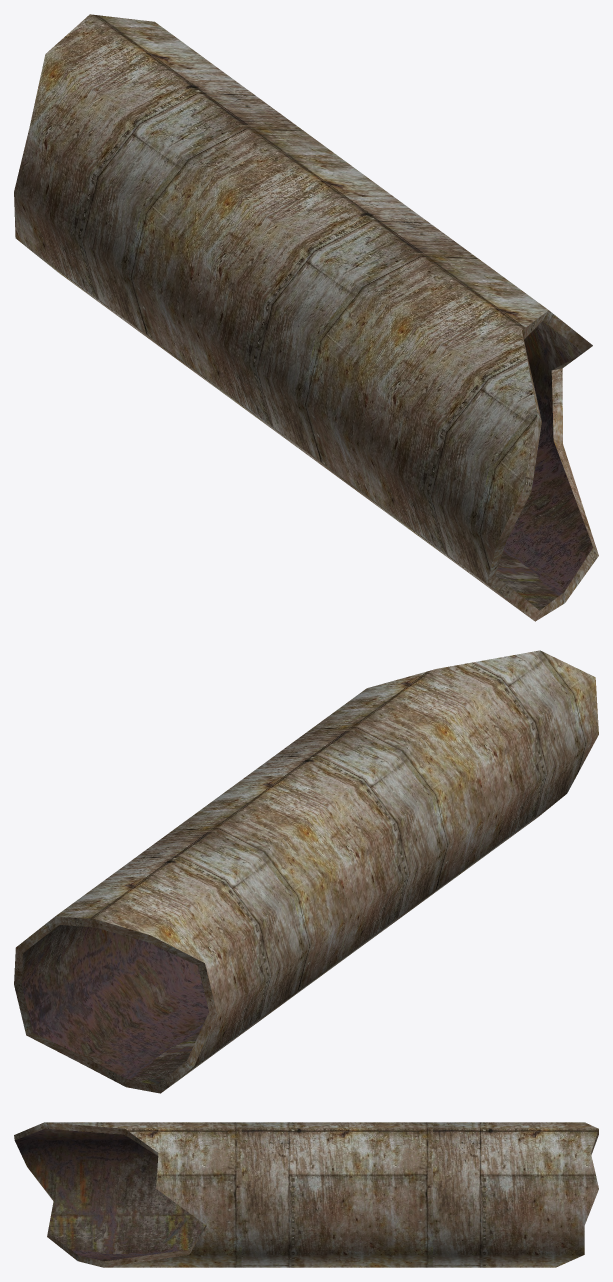
Rendered from railpipe_d01.glb.
3 renders of one model, top to bottom at view 1: azimuth 30°, elevation 25°; view 2: azimuth 150°, elevation 25°; view 3: azimuth 270°, elevation 25°, orthographic. The views are drawn at different scales.
Bounding box in the file's own units: 66 × 66 × 264.
2 materials, 2 textured.
